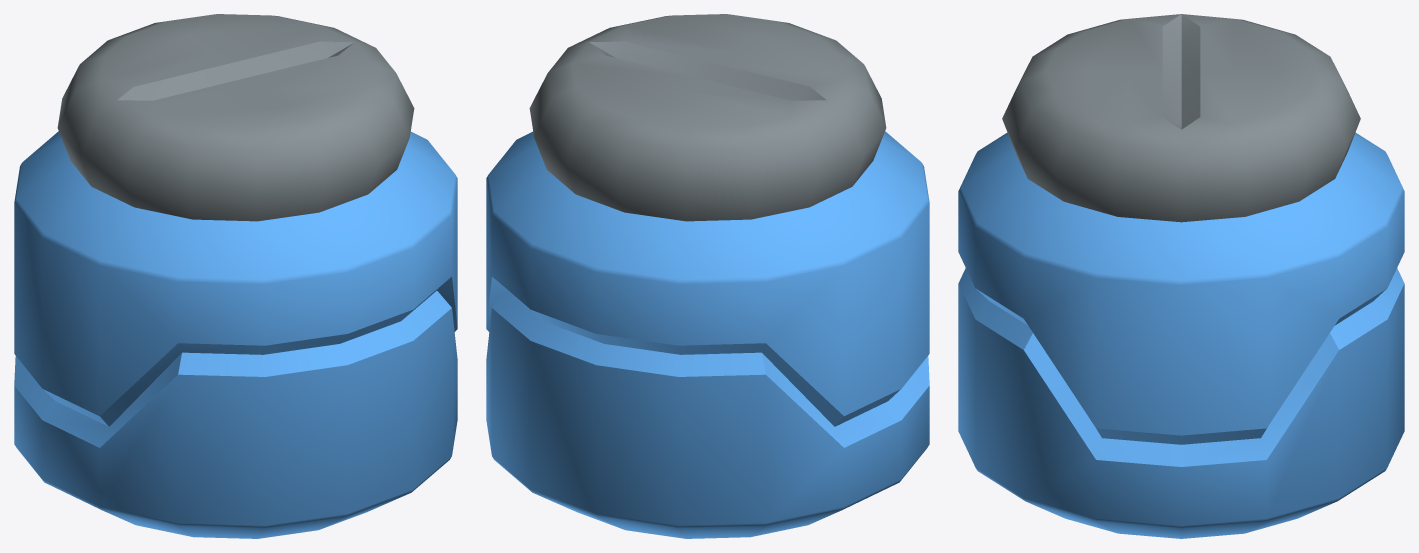
Rendered from liquid_canister.gltf.glb.
3 views of the same model, side by side, from view 1: azimuth 30°, elevation 25°; view 2: azimuth 150°, elevation 25°; view 3: azimuth 270°, elevation 25° (orthographic).
Visible parts, largest first — view 1: liquid_canister; view 2: liquid_canister; view 3: liquid_canister.
Part boxes in pixels (x1,y1,x2,y2): liquid_canister: (14, 14, 457, 538); liquid_canister: (486, 14, 929, 538); liquid_canister: (958, 14, 1404, 538).
Bounding box in the file's own units: 0.5541 × 0.5449 × 0.5541.
